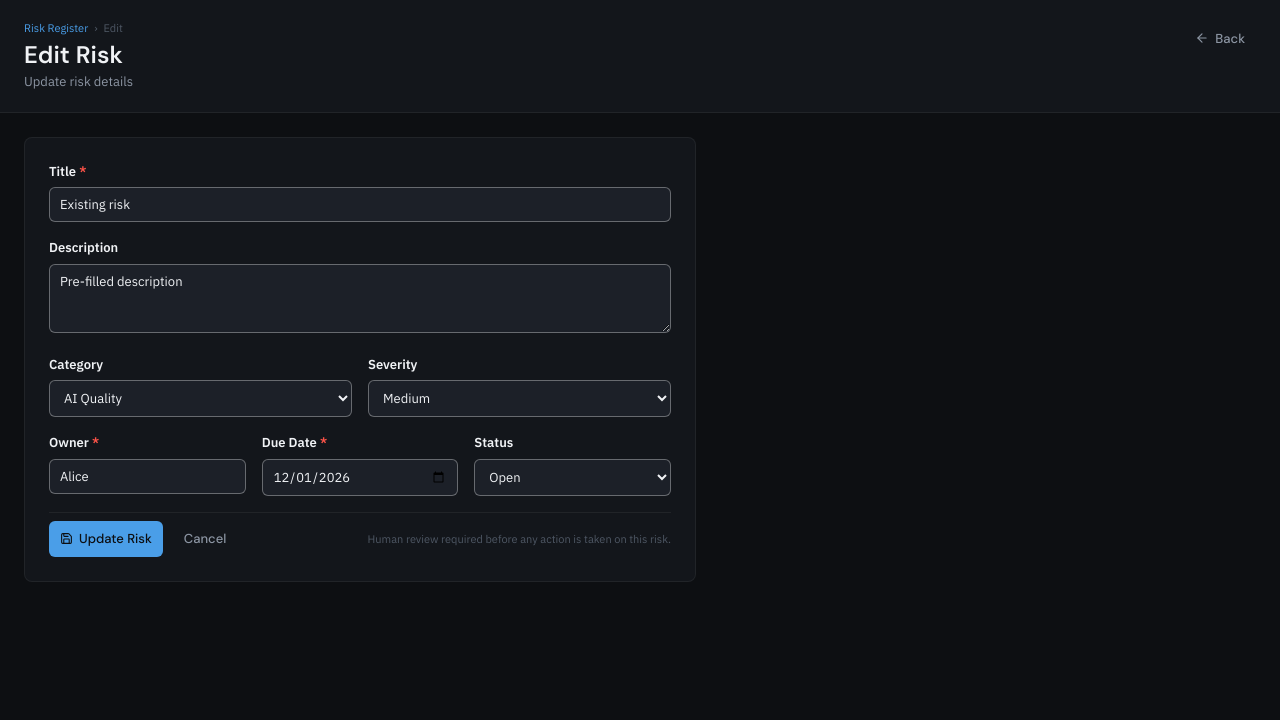
RiskForm — unsaved changes guard (STORY-RISKFORM-003) › edge case: typing then reverting a value still counts as dirty
Type "X" into the field showing "Existing risk" below "Title" at coordinates (360, 205), box [49,187,671,222]
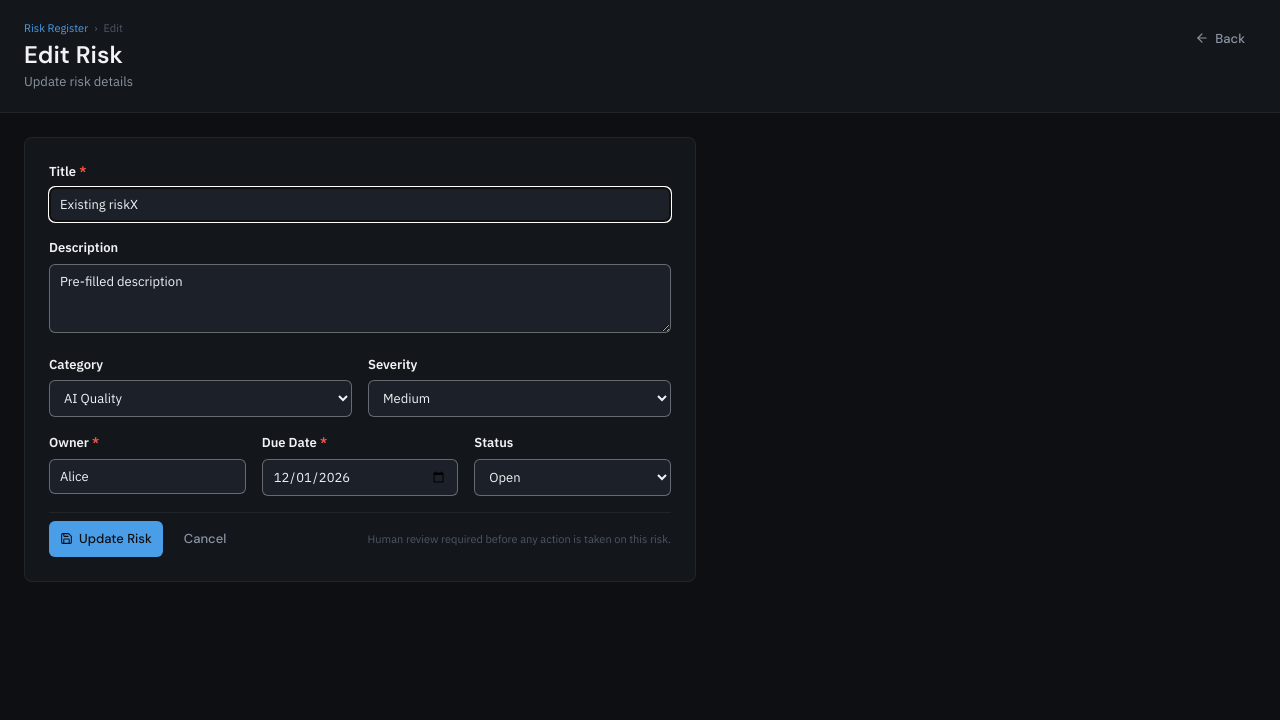
Press Backspace
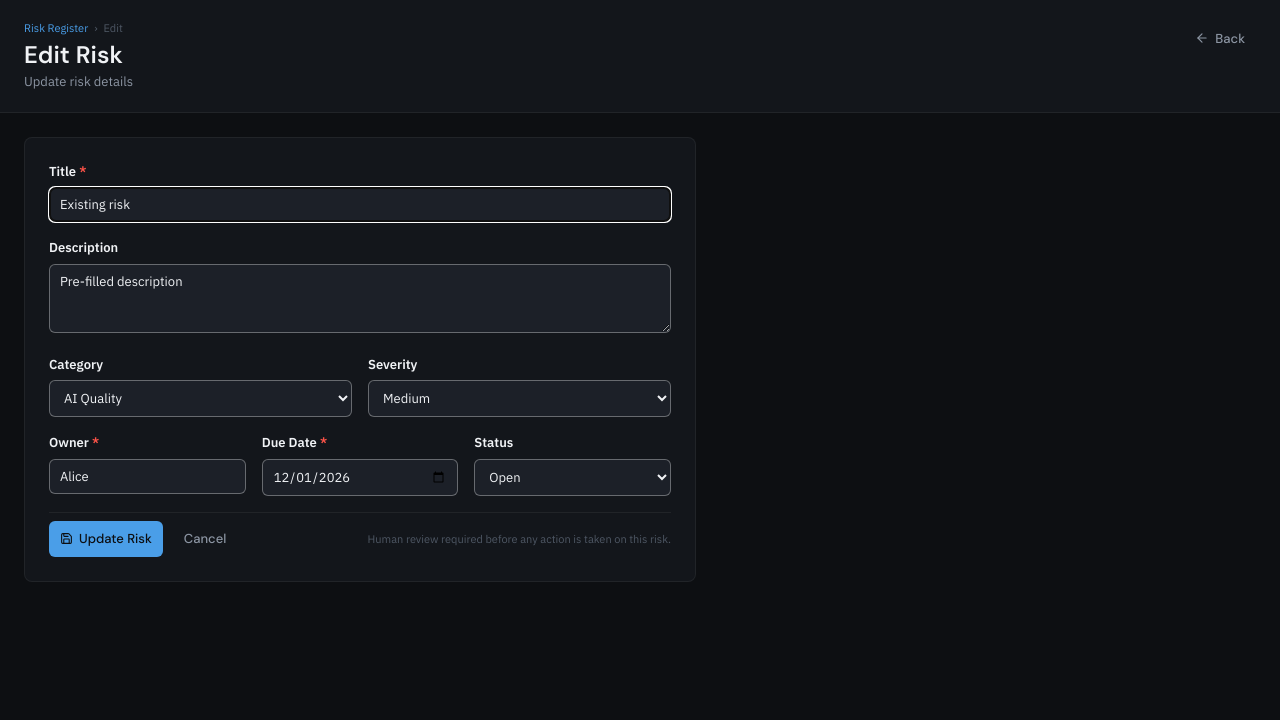
expect the field showing "Existing risk" below "Title" holds "Existing risk": met, box [49,187,671,222]
Click the button "Cancel" at coordinates (205, 539), box [173,521,237,557]
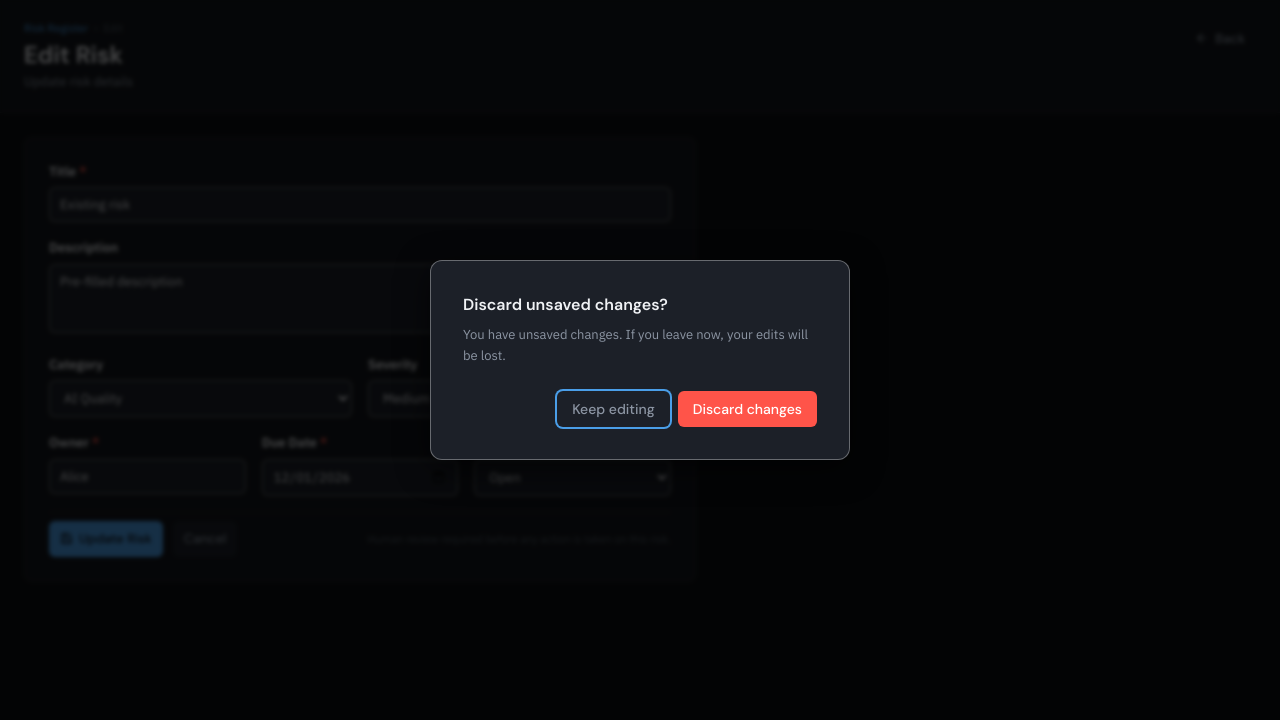
expect the dialog is shown: met
